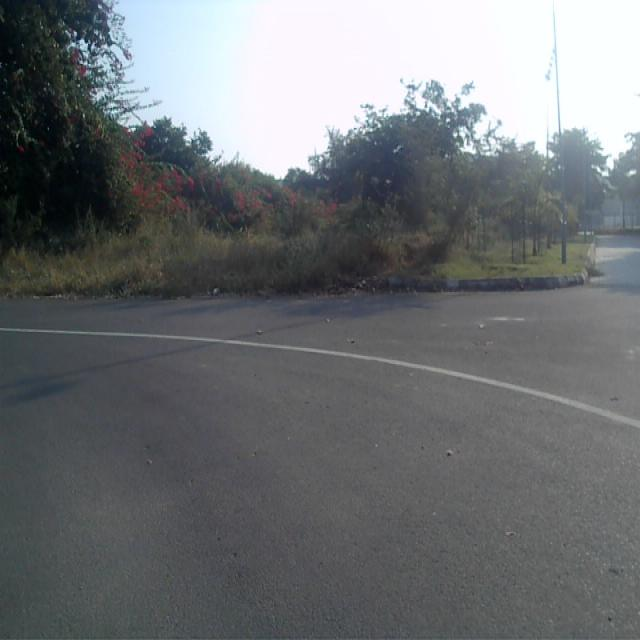lane: (0, 333, 640, 640)
